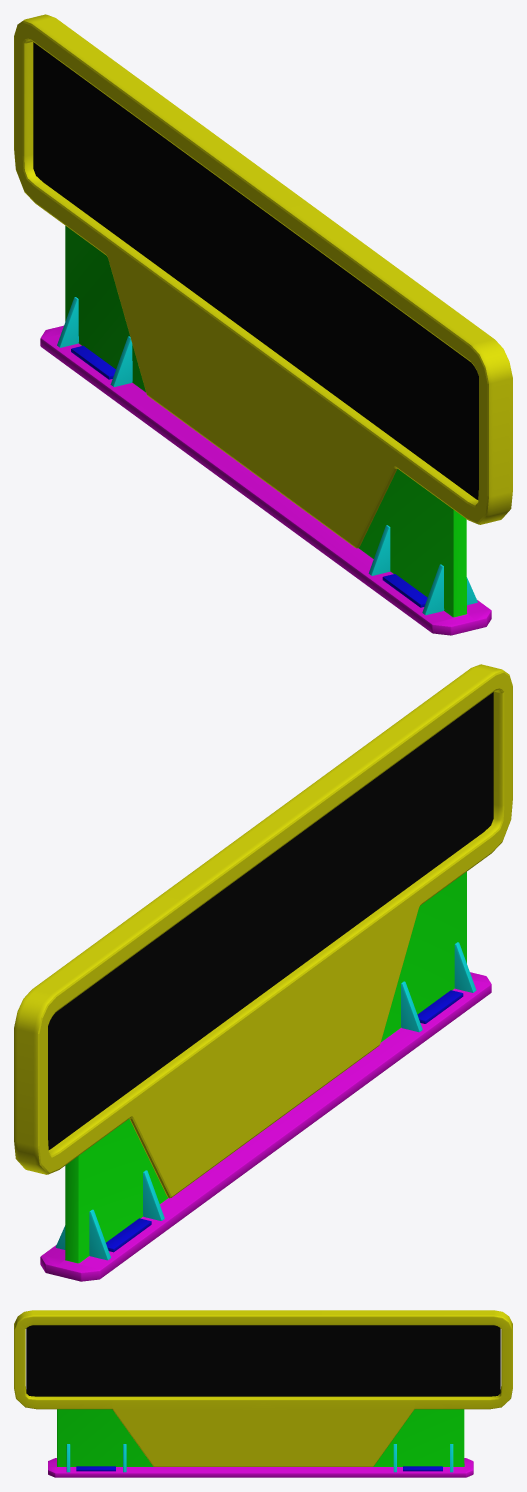
The model's file is Holographic_Railings.fbx.
The picture shows the model from 3 angles, top to bottom: view 1: azimuth 30°, elevation 25°; view 2: azimuth 150°, elevation 25°; view 3: azimuth 270°, elevation 25°; orthographic projection. The views are drawn at different scales.
Parts seen in each view (by area): view 1: Holographic_Railings; view 2: Holographic_Railings; view 3: Holographic_Railings.
Boxes of the visible parts, bbox=[...] form: Holographic_Railings: bbox=[14, 14, 512, 635]; Holographic_Railings: bbox=[14, 664, 512, 1281]; Holographic_Railings: bbox=[14, 1310, 512, 1477].
Size of the model in its own units: 23.61 by 113 by 326.
